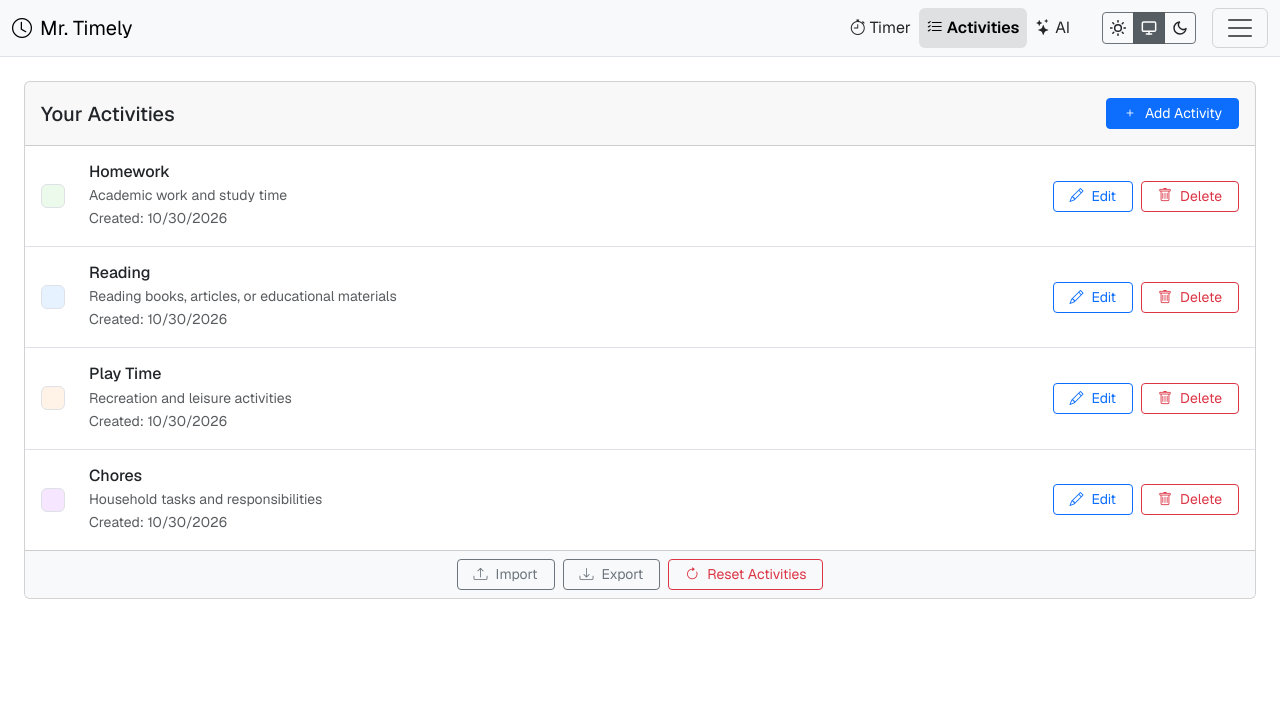
Test: Activity CRUD Operations › Navigation Integration › should maintain data across navigation
Note: Create activity
Click the button "Add Activity" at point(1173, 114), box [1106, 98, 1239, 129]
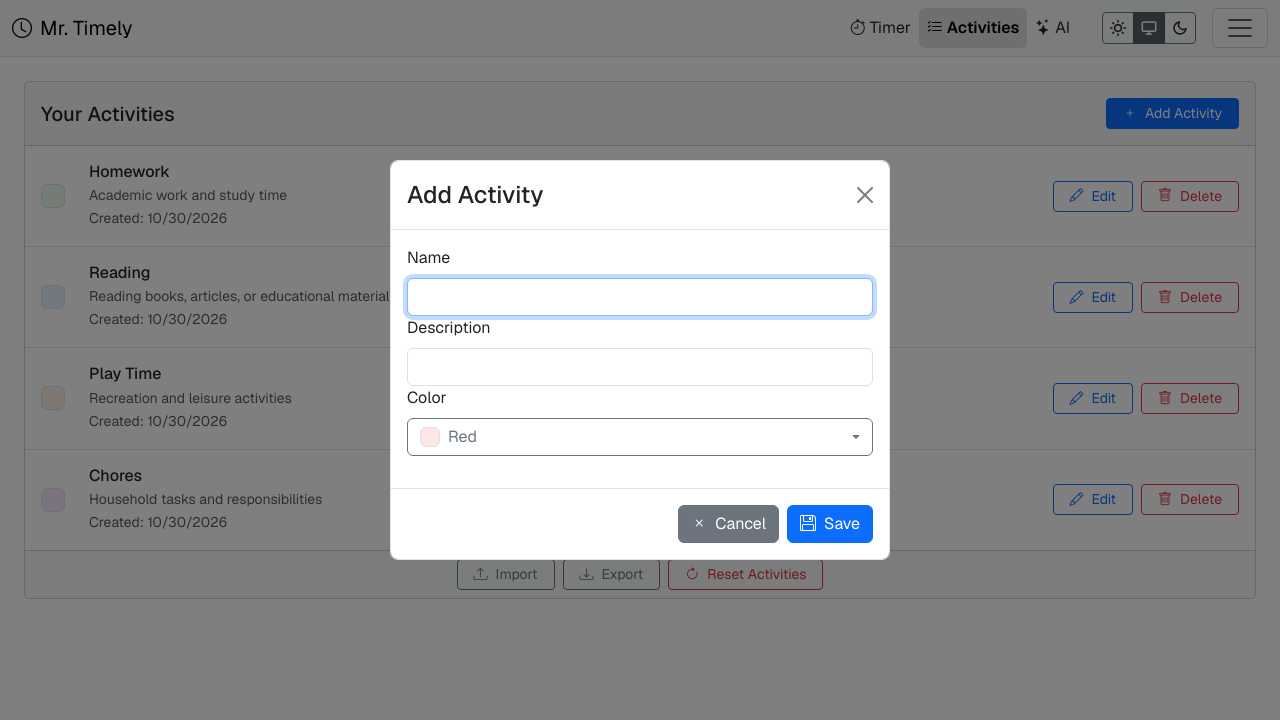
Type "Navigation Test Activity" into the field labelled "Name" at point(640, 297), box [407, 278, 873, 316]
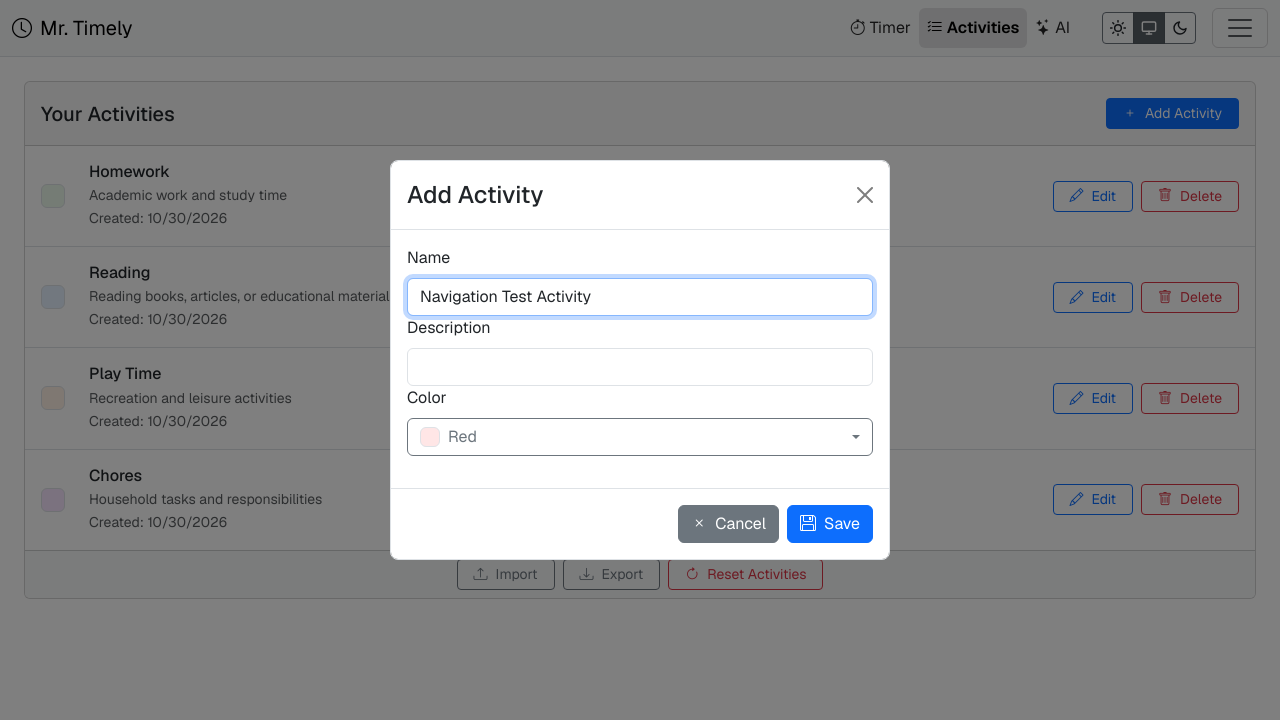
Click the button "Save" at point(830, 524), box [787, 505, 873, 543]
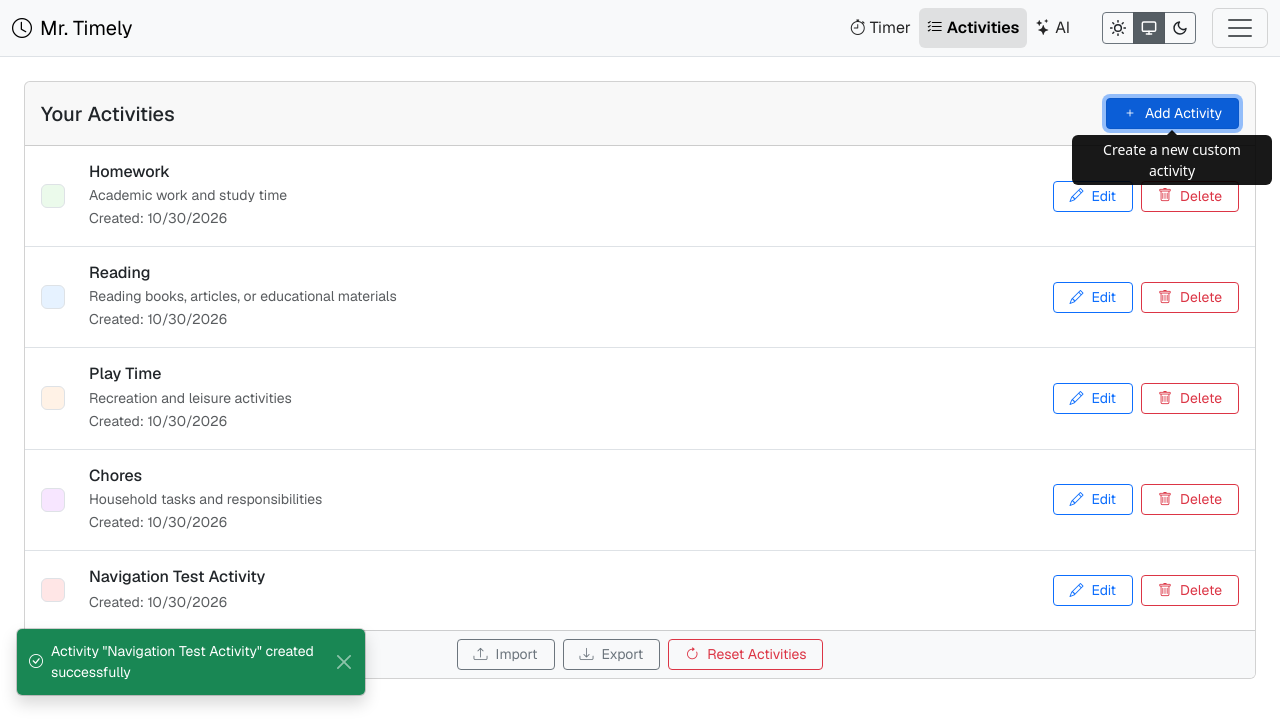
Now the dialog is gone
Now the message "Activity \"Navigation Test Activity\" created successfully" is shown, box [16, 628, 366, 696]
Now the text with test id "toast-message" shows "created successfully", box [51, 642, 314, 681]
Open "/"
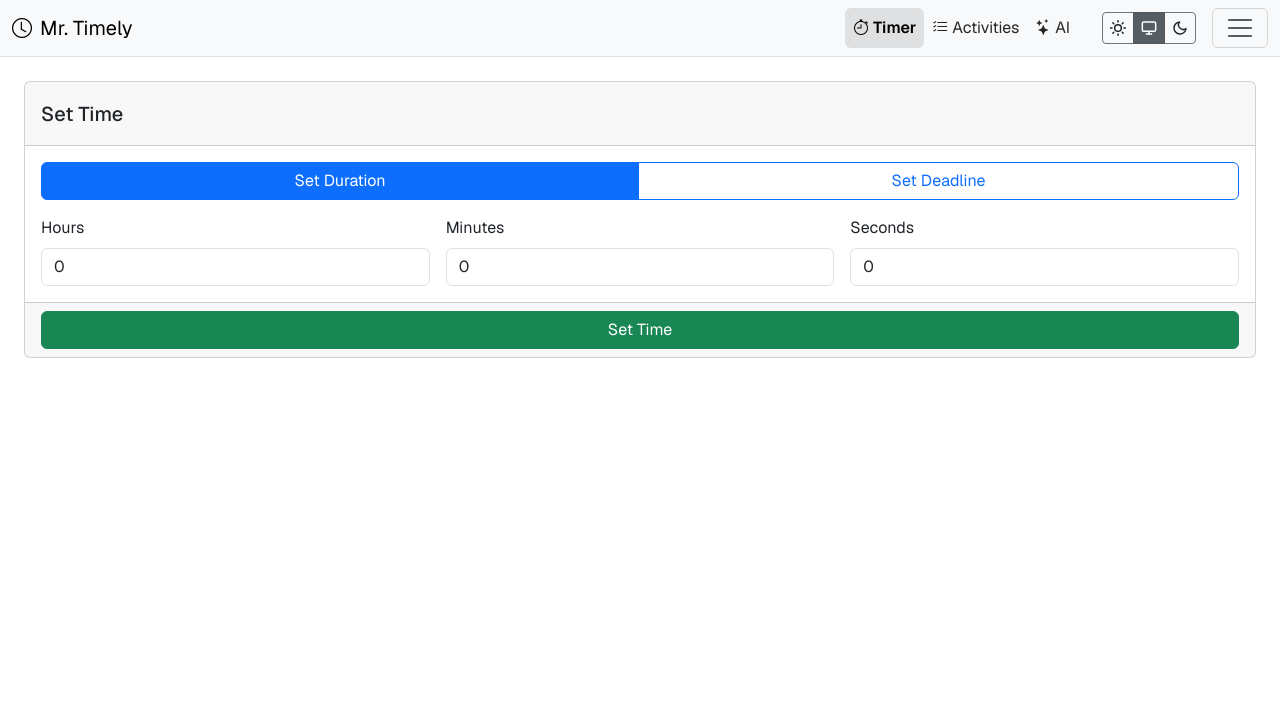
Click the link to "/activities" at point(976, 28), box [932, 17, 1019, 38]
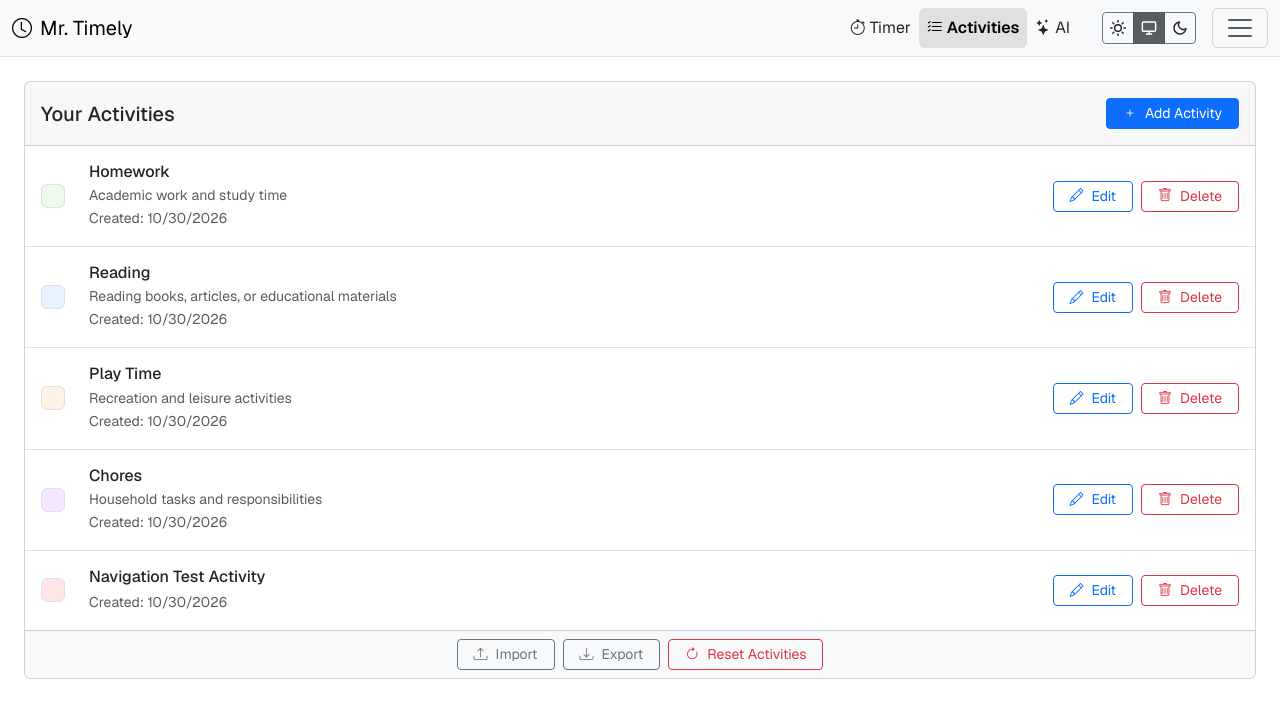
Now the heading "Navigation Test Activity" is shown, box [89, 567, 266, 586]
